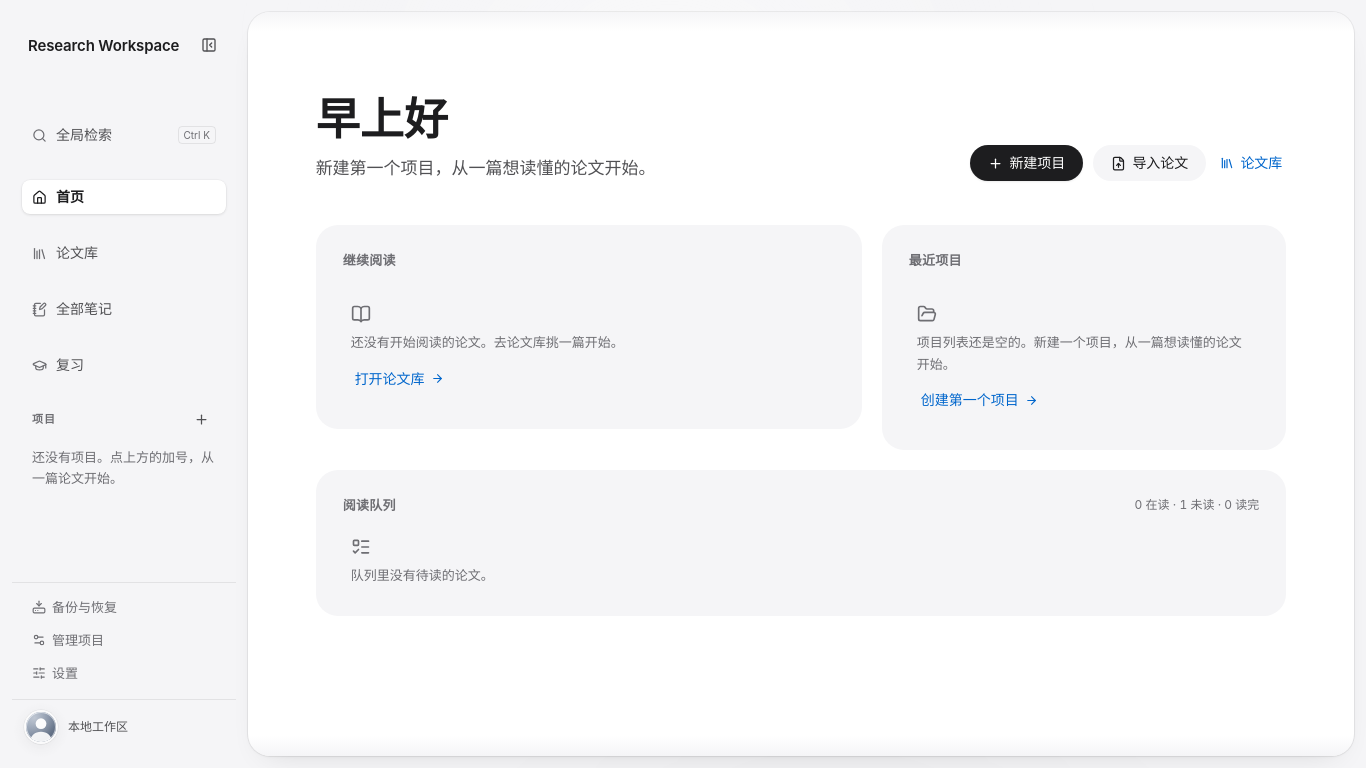
Scenario: the library › finds a paper by its author
The width and height of the screenshot is (1366, 768).
Click the button "论文库" below "Research Workspace".
click(124, 253)  # box [22,236,226,270]
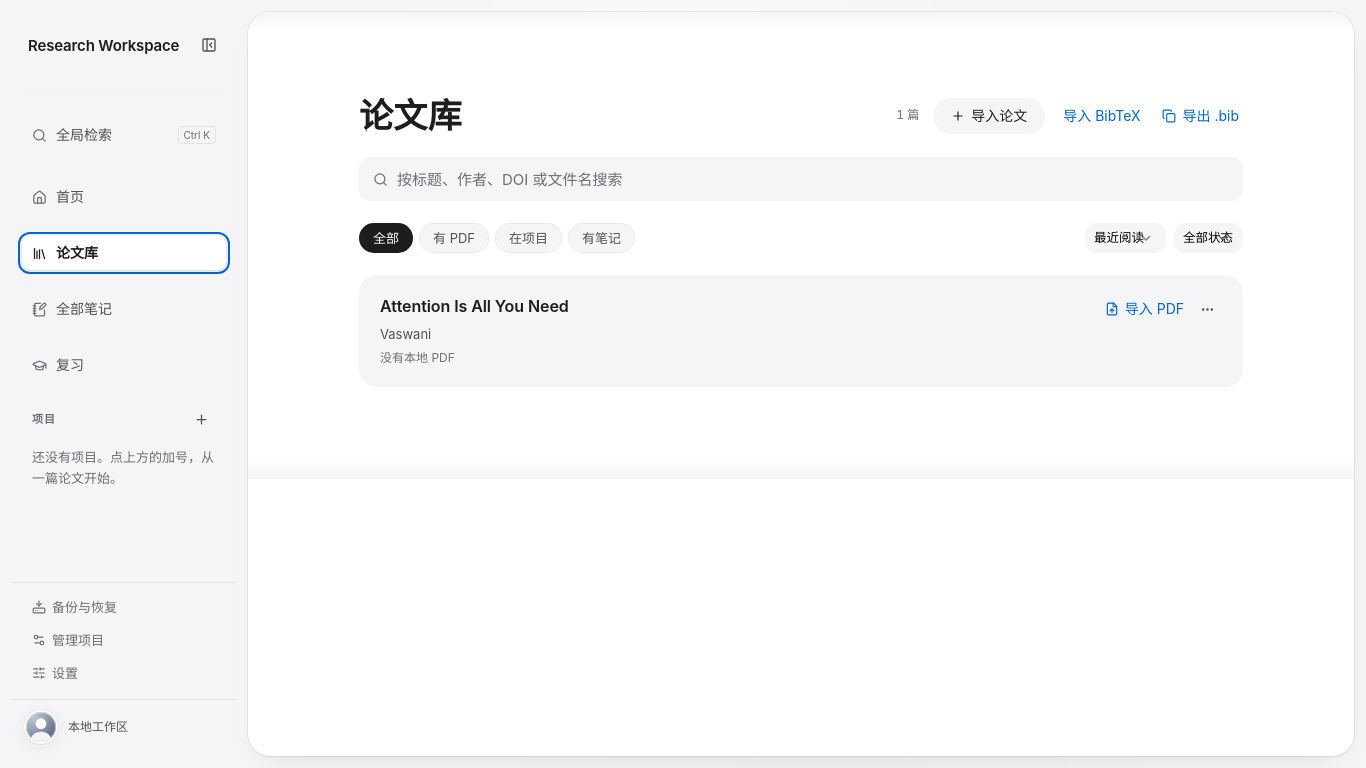
Type "vaswani" into the search field.
click(812, 179); type("vaswani")  # box [396,157,1229,201]
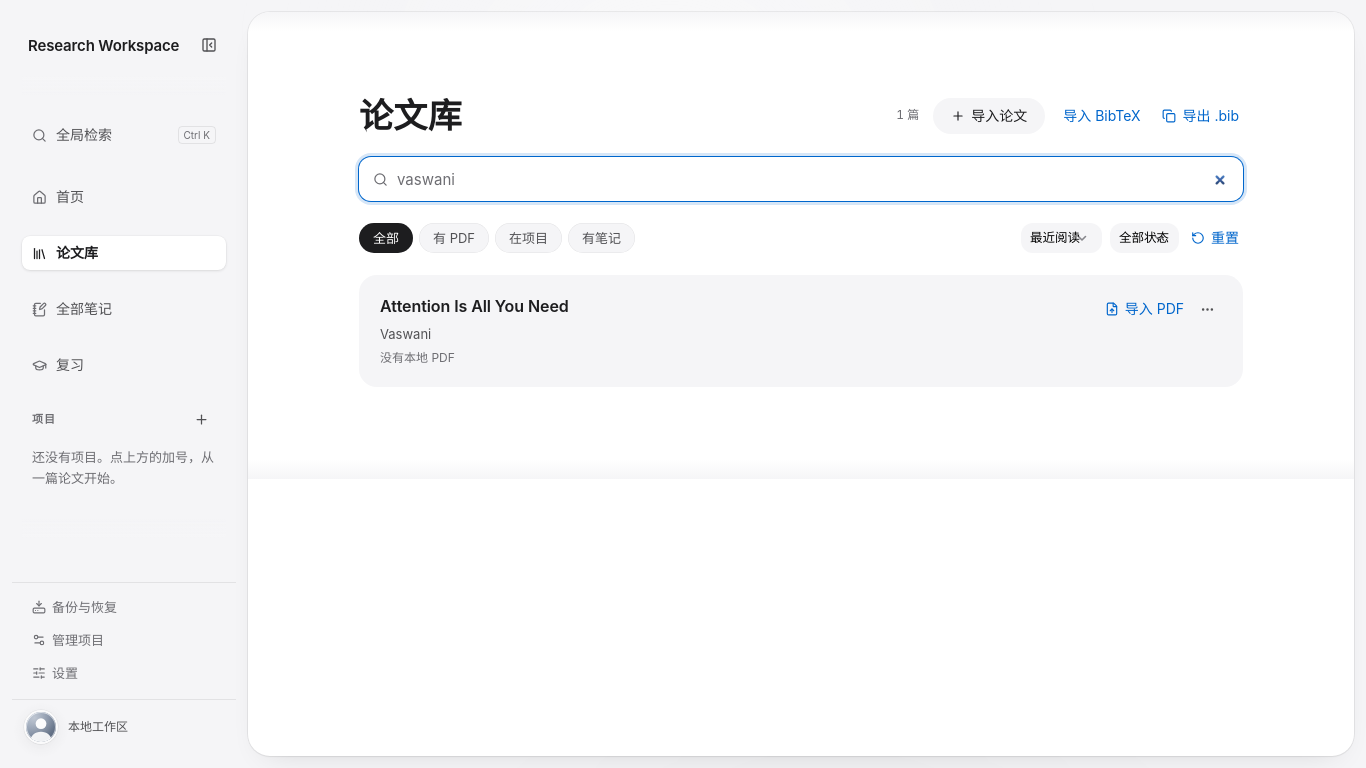
expect the heading "Attention Is All You Need" is shown: met, box [380,294,569,319]
Replace the text in the search field with "nothing matches this" at (812, 179), box [396,157,1229,201]
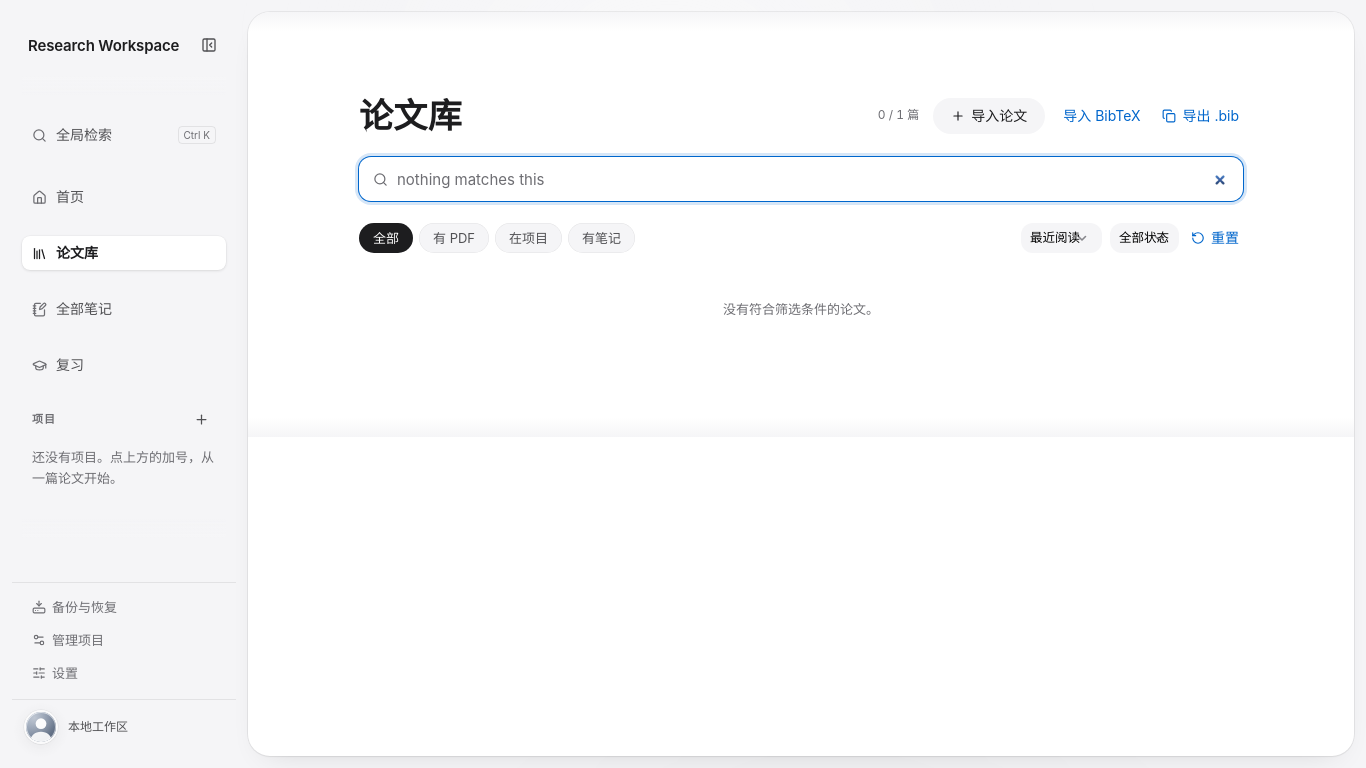
expect the heading "Attention Is All You Need" is gone: met
